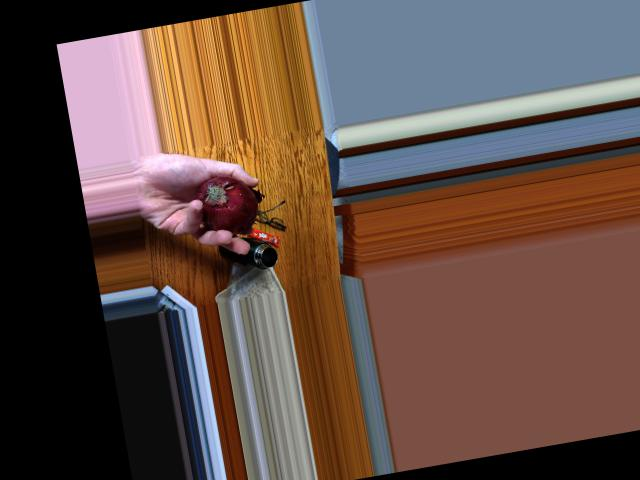onion: (191, 170, 255, 238)
